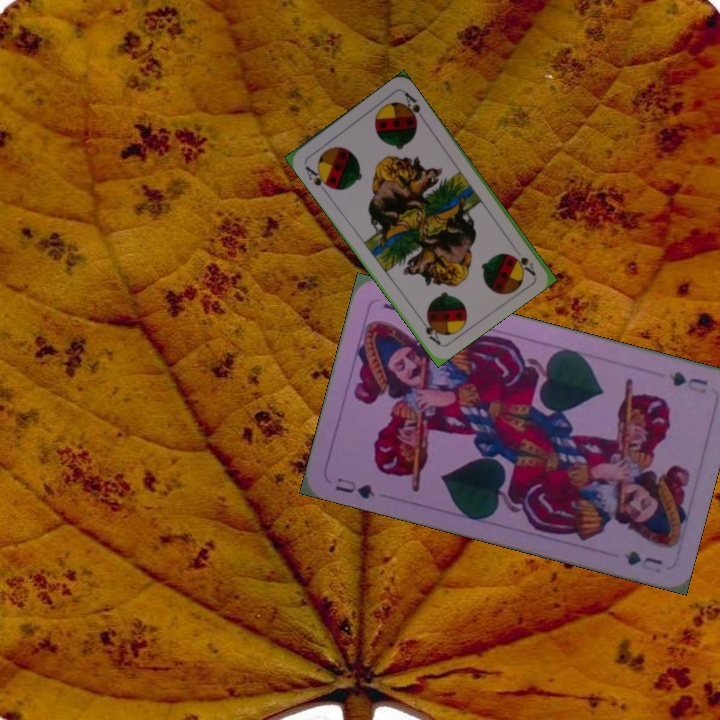GU: (331, 473, 378, 502), (665, 367, 710, 396)
SA: (301, 162, 334, 195), (510, 251, 538, 278)
